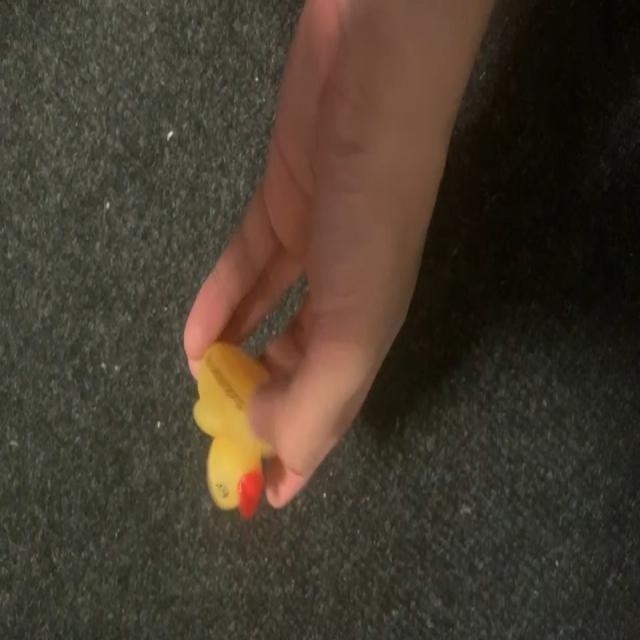rubber-duck: (192, 341, 267, 516)
